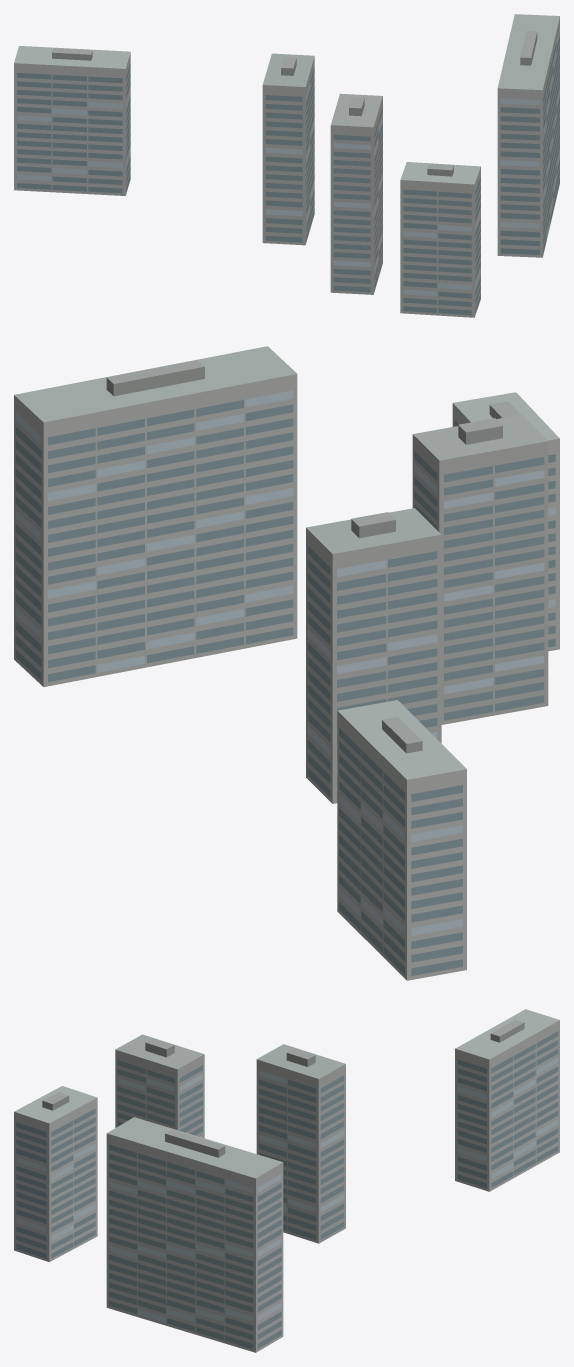
Rendered from apt-a15786111.glb.
3 renders of one model, top to bottom at view 1: azimuth 30°, elevation 25°; view 2: azimuth 150°, elevation 25°; view 3: azimuth 270°, elevation 25°, orthographic. The views are drawn at different scales.
Parts seen in each view (by area): view 1: apt-a15786111; view 2: apt-a15786111; view 3: apt-a15786111.
Boxes of the visible parts, <box> form: apt-a15786111: <box>14,14,559,317</box>; apt-a15786111: <box>14,346,559,980</box>; apt-a15786111: <box>14,1009,559,1352</box>.
Bounding box in the file's own units: 134 × 54 × 146.
